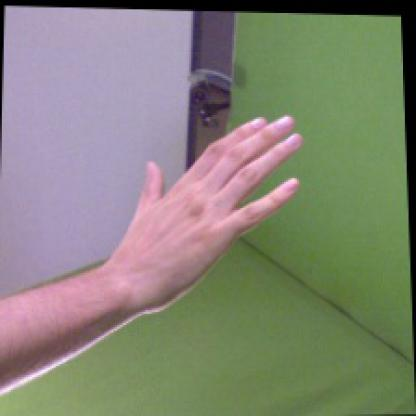Hand: (118, 116, 304, 293)
